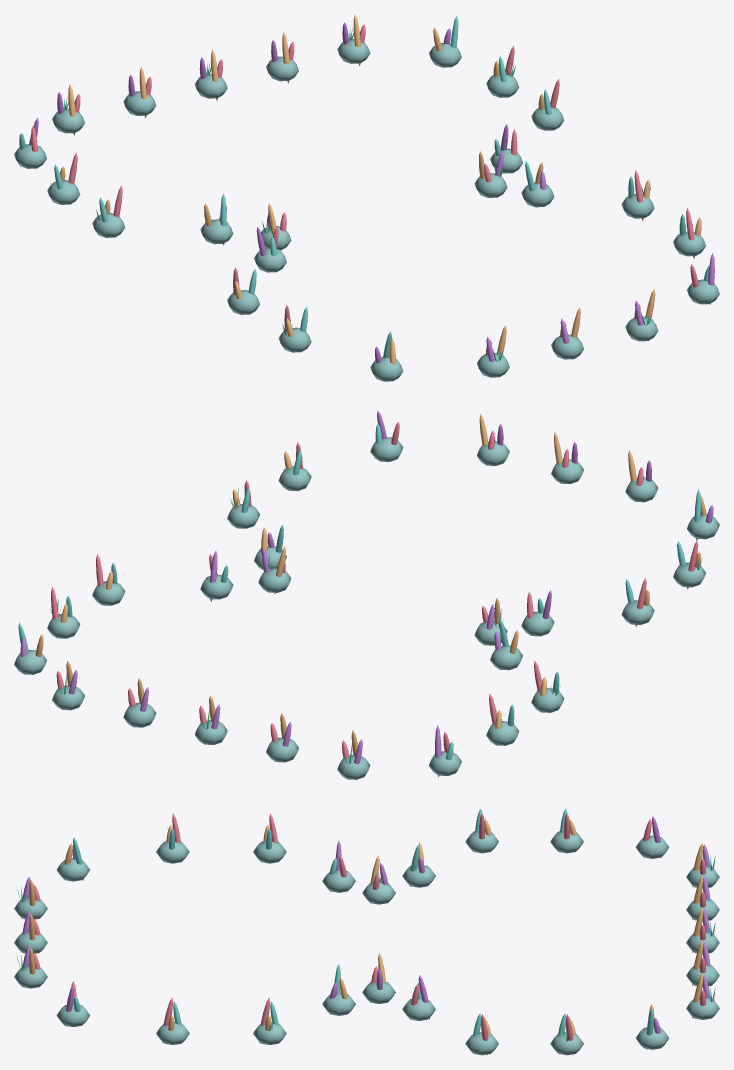
The model's file is reef-03-BAYQx19b.glb.
3 renders of one model, top to bottom at view 1: azimuth 30°, elevation 25°; view 2: azimuth 150°, elevation 25°; view 3: azimuth 270°, elevation 25°, orthographic. The views are drawn at different scales.
Parts seen in each view (by area): view 1: ReefRock, Coral2, Coral0, Coral3, Coral1; view 2: ReefRock, Coral2, Coral0, Coral1, Coral3; view 3: ReefRock, Coral2, Coral0, Coral1, Coral3.
Boxes of the visible parts, x1,y1,x2,y2 form: ReefRock: (14, 39, 719, 381); Coral2: (60, 14, 701, 364); Coral0: (31, 24, 698, 355); Coral3: (19, 16, 709, 357); Coral1: (29, 22, 714, 363); ReefRock: (14, 437, 719, 779); Coral2: (35, 414, 706, 756); Coral0: (51, 422, 698, 758); Coral1: (20, 410, 713, 776); Coral3: (18, 424, 701, 760); ReefRock: (14, 831, 719, 1055); Coral2: (29, 819, 703, 1035); Coral0: (33, 813, 705, 1055); Coral1: (22, 816, 710, 1033); Coral3: (73, 808, 658, 1049).
Bounding box in the file's own units: 21 × 2.06 × 29.1.
